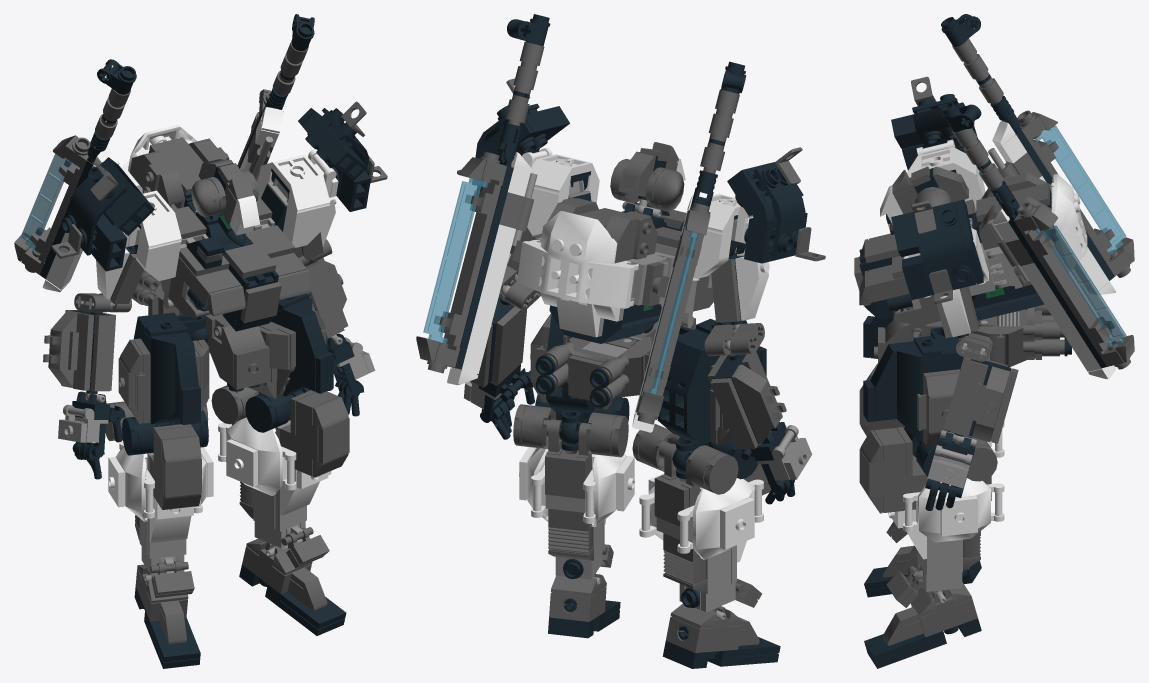
File: fh-00-gungnir.dae
3 views of the same model, side by side, from view 1: azimuth 30°, elevation 25°; view 2: azimuth 150°, elevation 25°; view 3: azimuth 270°, elevation 25° (orthographic). The views are drawn at different scales.
Bounding box in the file's own units: 399 × 301 × 668.
